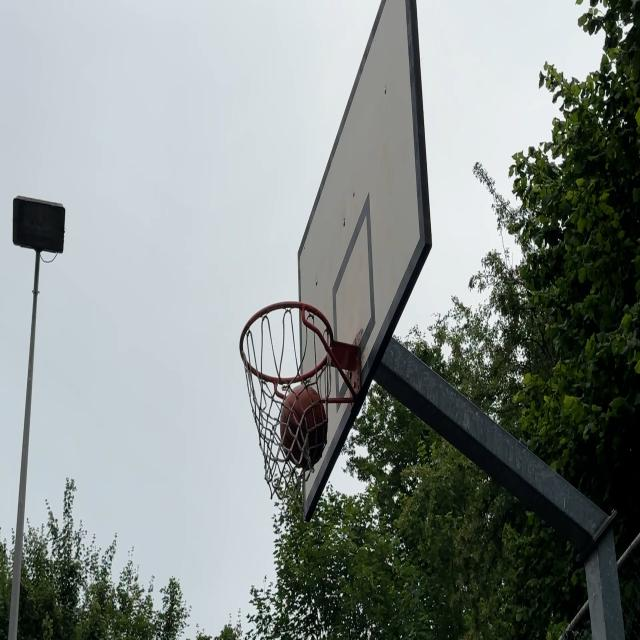Goal: (282, 384, 327, 468)
